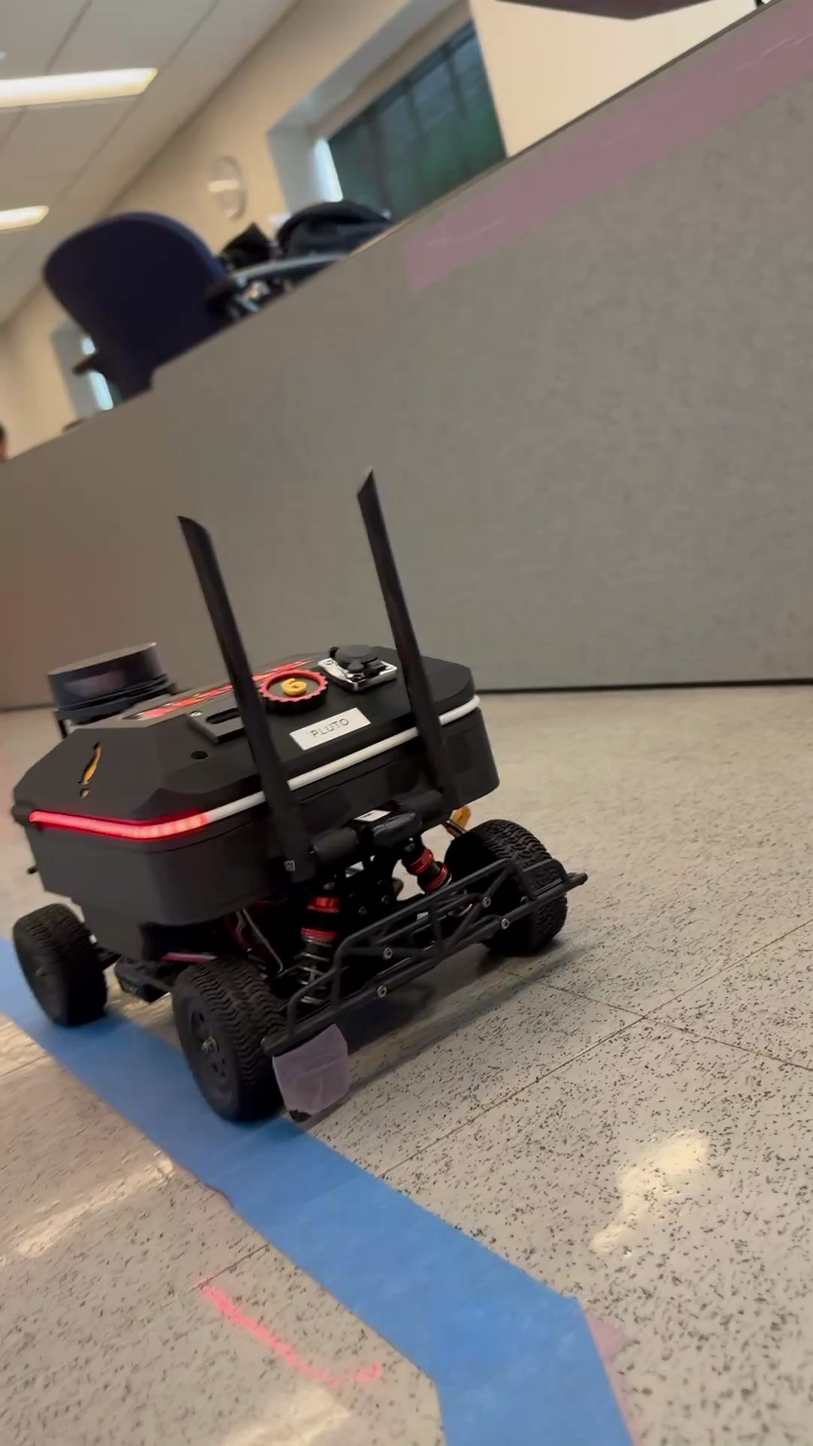racecar: (7, 475, 583, 1125)
